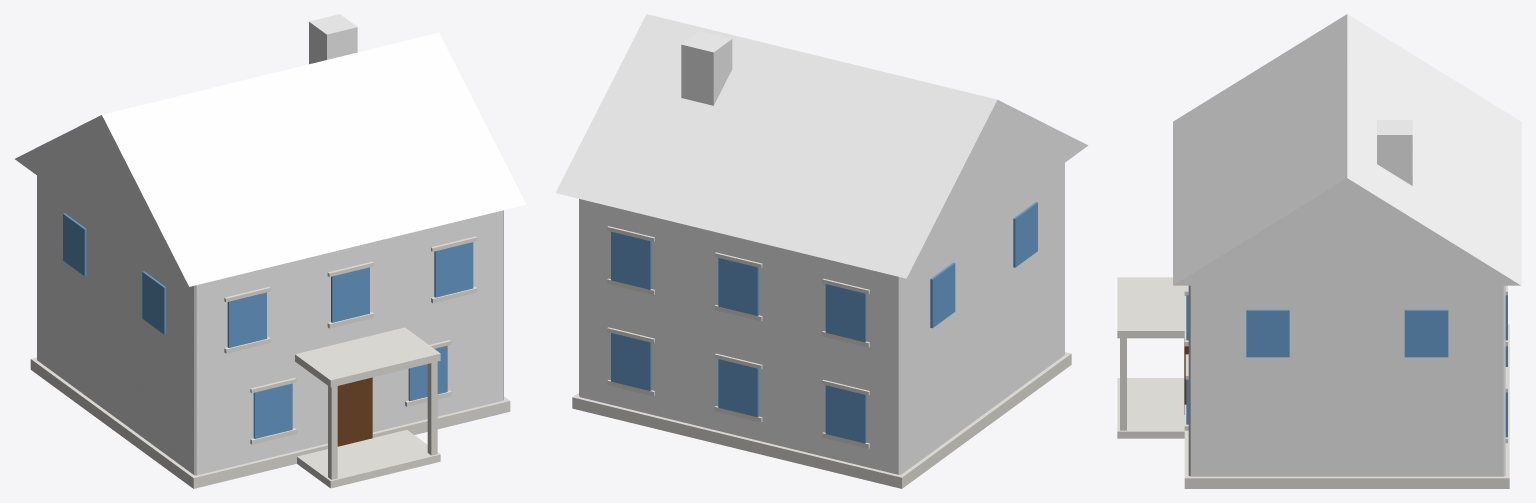
Rendered from house_a.glb.
3 renders of one model, left to right at view 1: azimuth 30°, elevation 25°; view 2: azimuth 150°, elevation 25°; view 3: azimuth 270°, elevation 25°, orthographic. The views are drawn at different scales.
Parts seen in each view (by area): view 1: house_walls, house_roof; view 2: house_walls, house_roof; view 3: house_roof, house_walls.
Part boxes in pixels (x1,y1,x2,y2): house_walls: (30, 176, 510, 488); house_roof: (15, 14, 526, 286); house_walls: (572, 163, 1071, 488); house_roof: (555, 14, 1088, 278); house_roof: (1173, 14, 1521, 285); house_walls: (1117, 277, 1509, 488).
Size of the model in its own units: 9.8 by 9.1 by 10.2.
